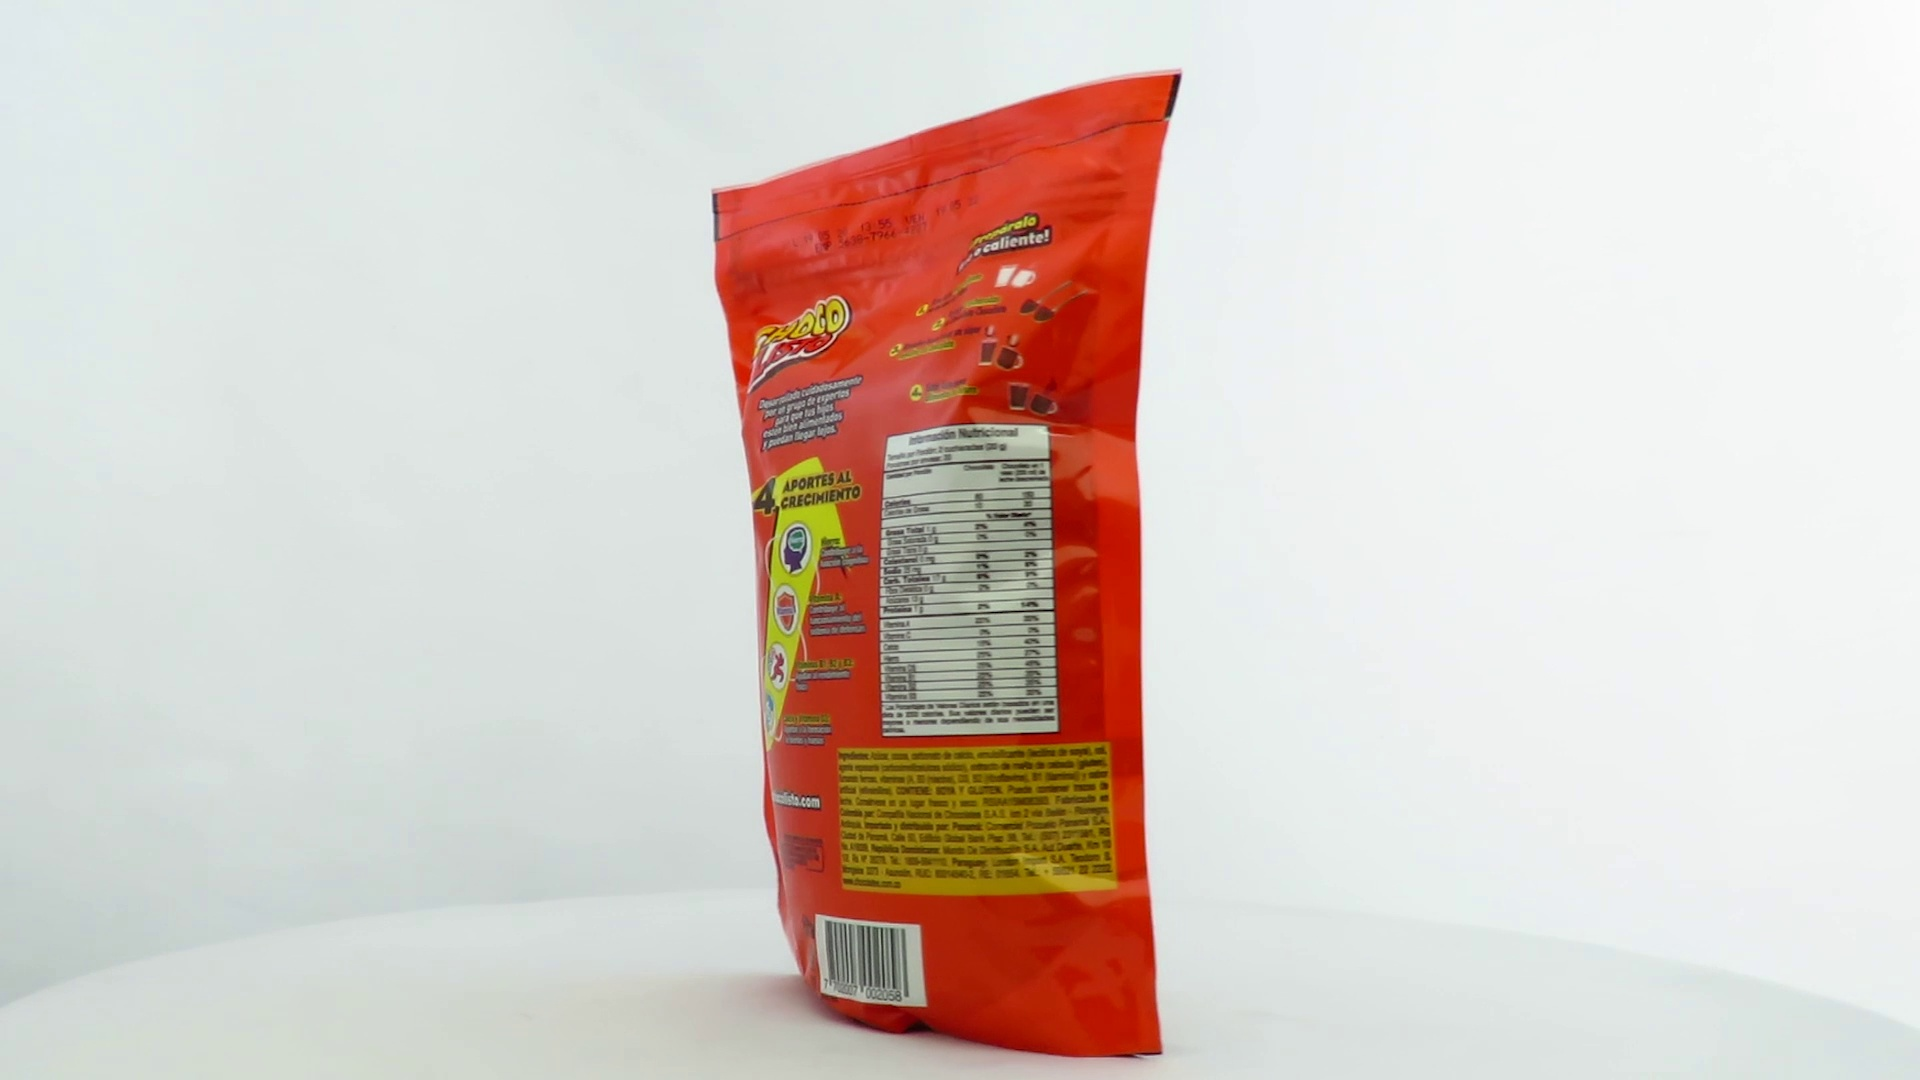COL0170103DYP40000: (705, 63, 1188, 1068)
